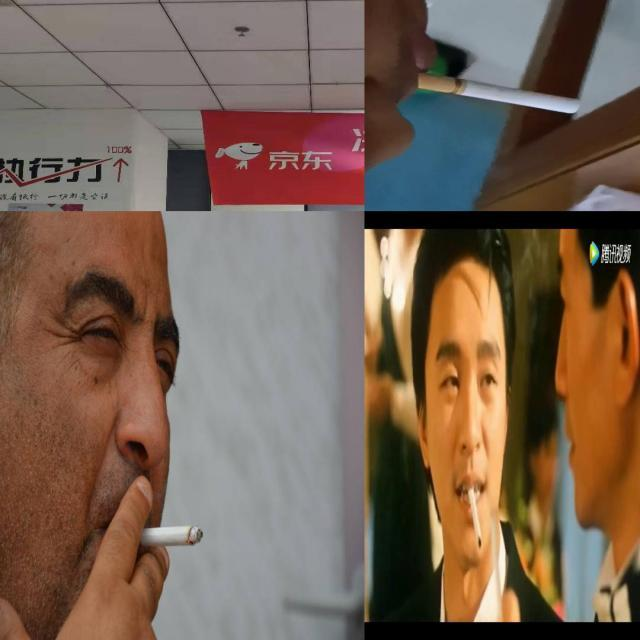smoke: (418, 73, 582, 114), (128, 523, 205, 548), (468, 484, 483, 550)
